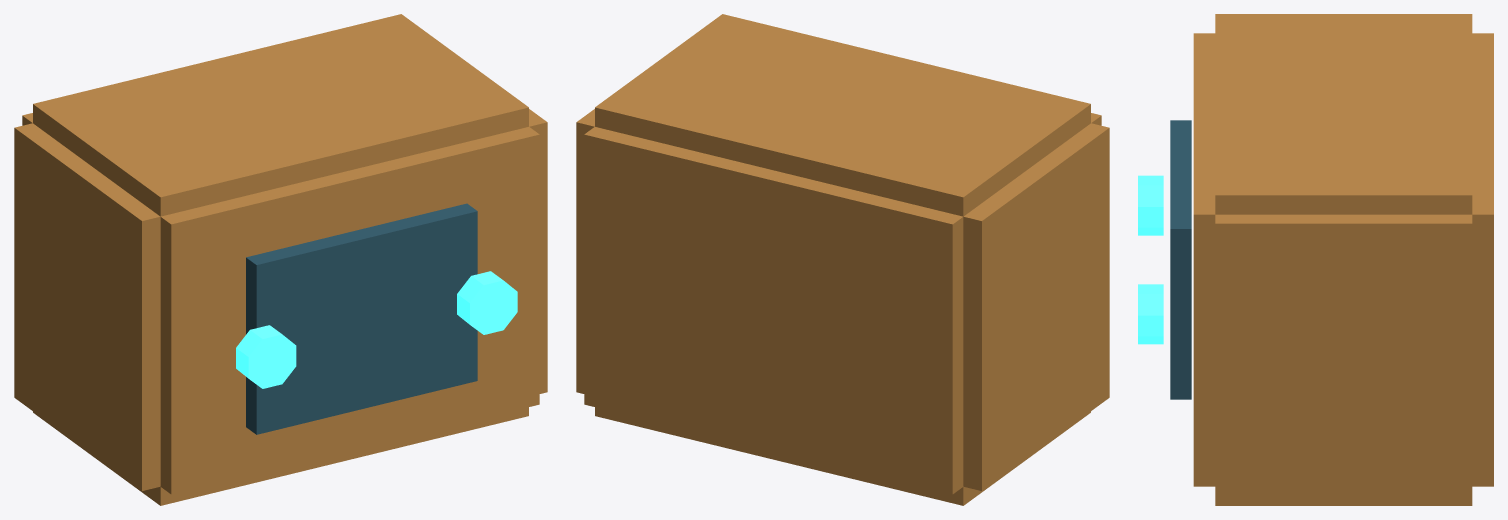
File: Frontier_SurveyTripod_Scanner.glb
3 views of the same model, side by side, from view 1: azimuth 30°, elevation 25°; view 2: azimuth 150°, elevation 25°; view 3: azimuth 270°, elevation 25° (orthographic).
Visible parts, largest first — view 1: Frontier_SurveyTripod_Scanner; view 2: Frontier_SurveyTripod_Scanner; view 3: Frontier_SurveyTripod_Scanner.
Part boxes in pixels (x1=…): Frontier_SurveyTripod_Scanner: x1=14, y1=14, x2=547, y2=505; Frontier_SurveyTripod_Scanner: x1=576, y1=14, x2=1109, y2=505; Frontier_SurveyTripod_Scanner: x1=1138, y1=14, x2=1493, y2=505.
Size of the model in its own units: 0.55 by 0.4 by 0.415.
